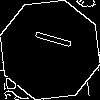I: (25, 25, 73, 51)
